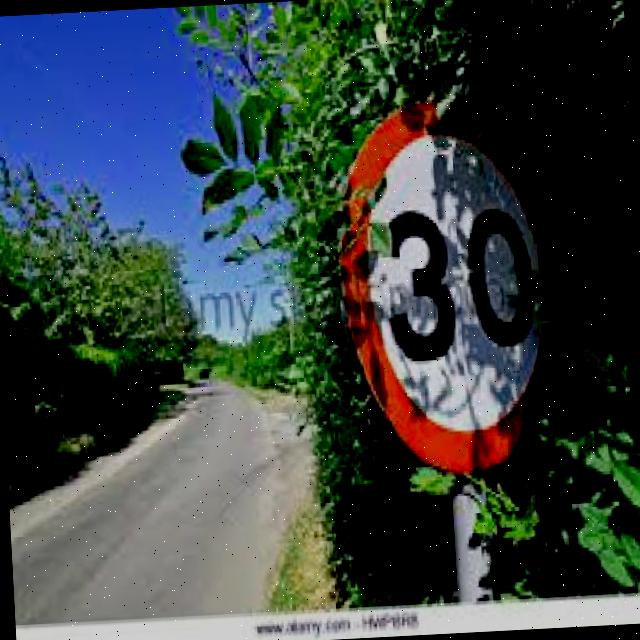Ograniczenie predkosci do 30: (336, 100, 562, 470)
